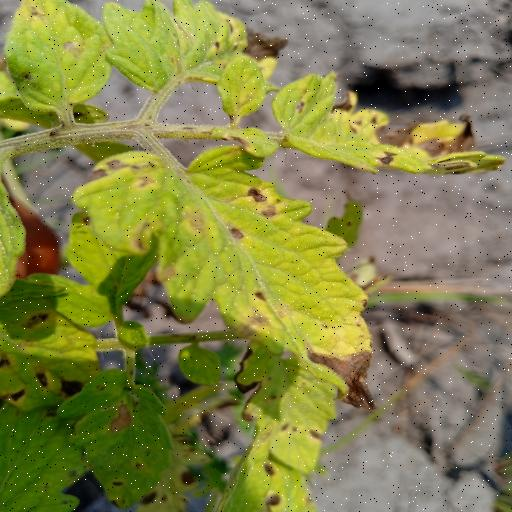Tomato_Brown_Spots: (64, 143, 390, 512), (273, 66, 506, 174), (0, 0, 112, 118)
